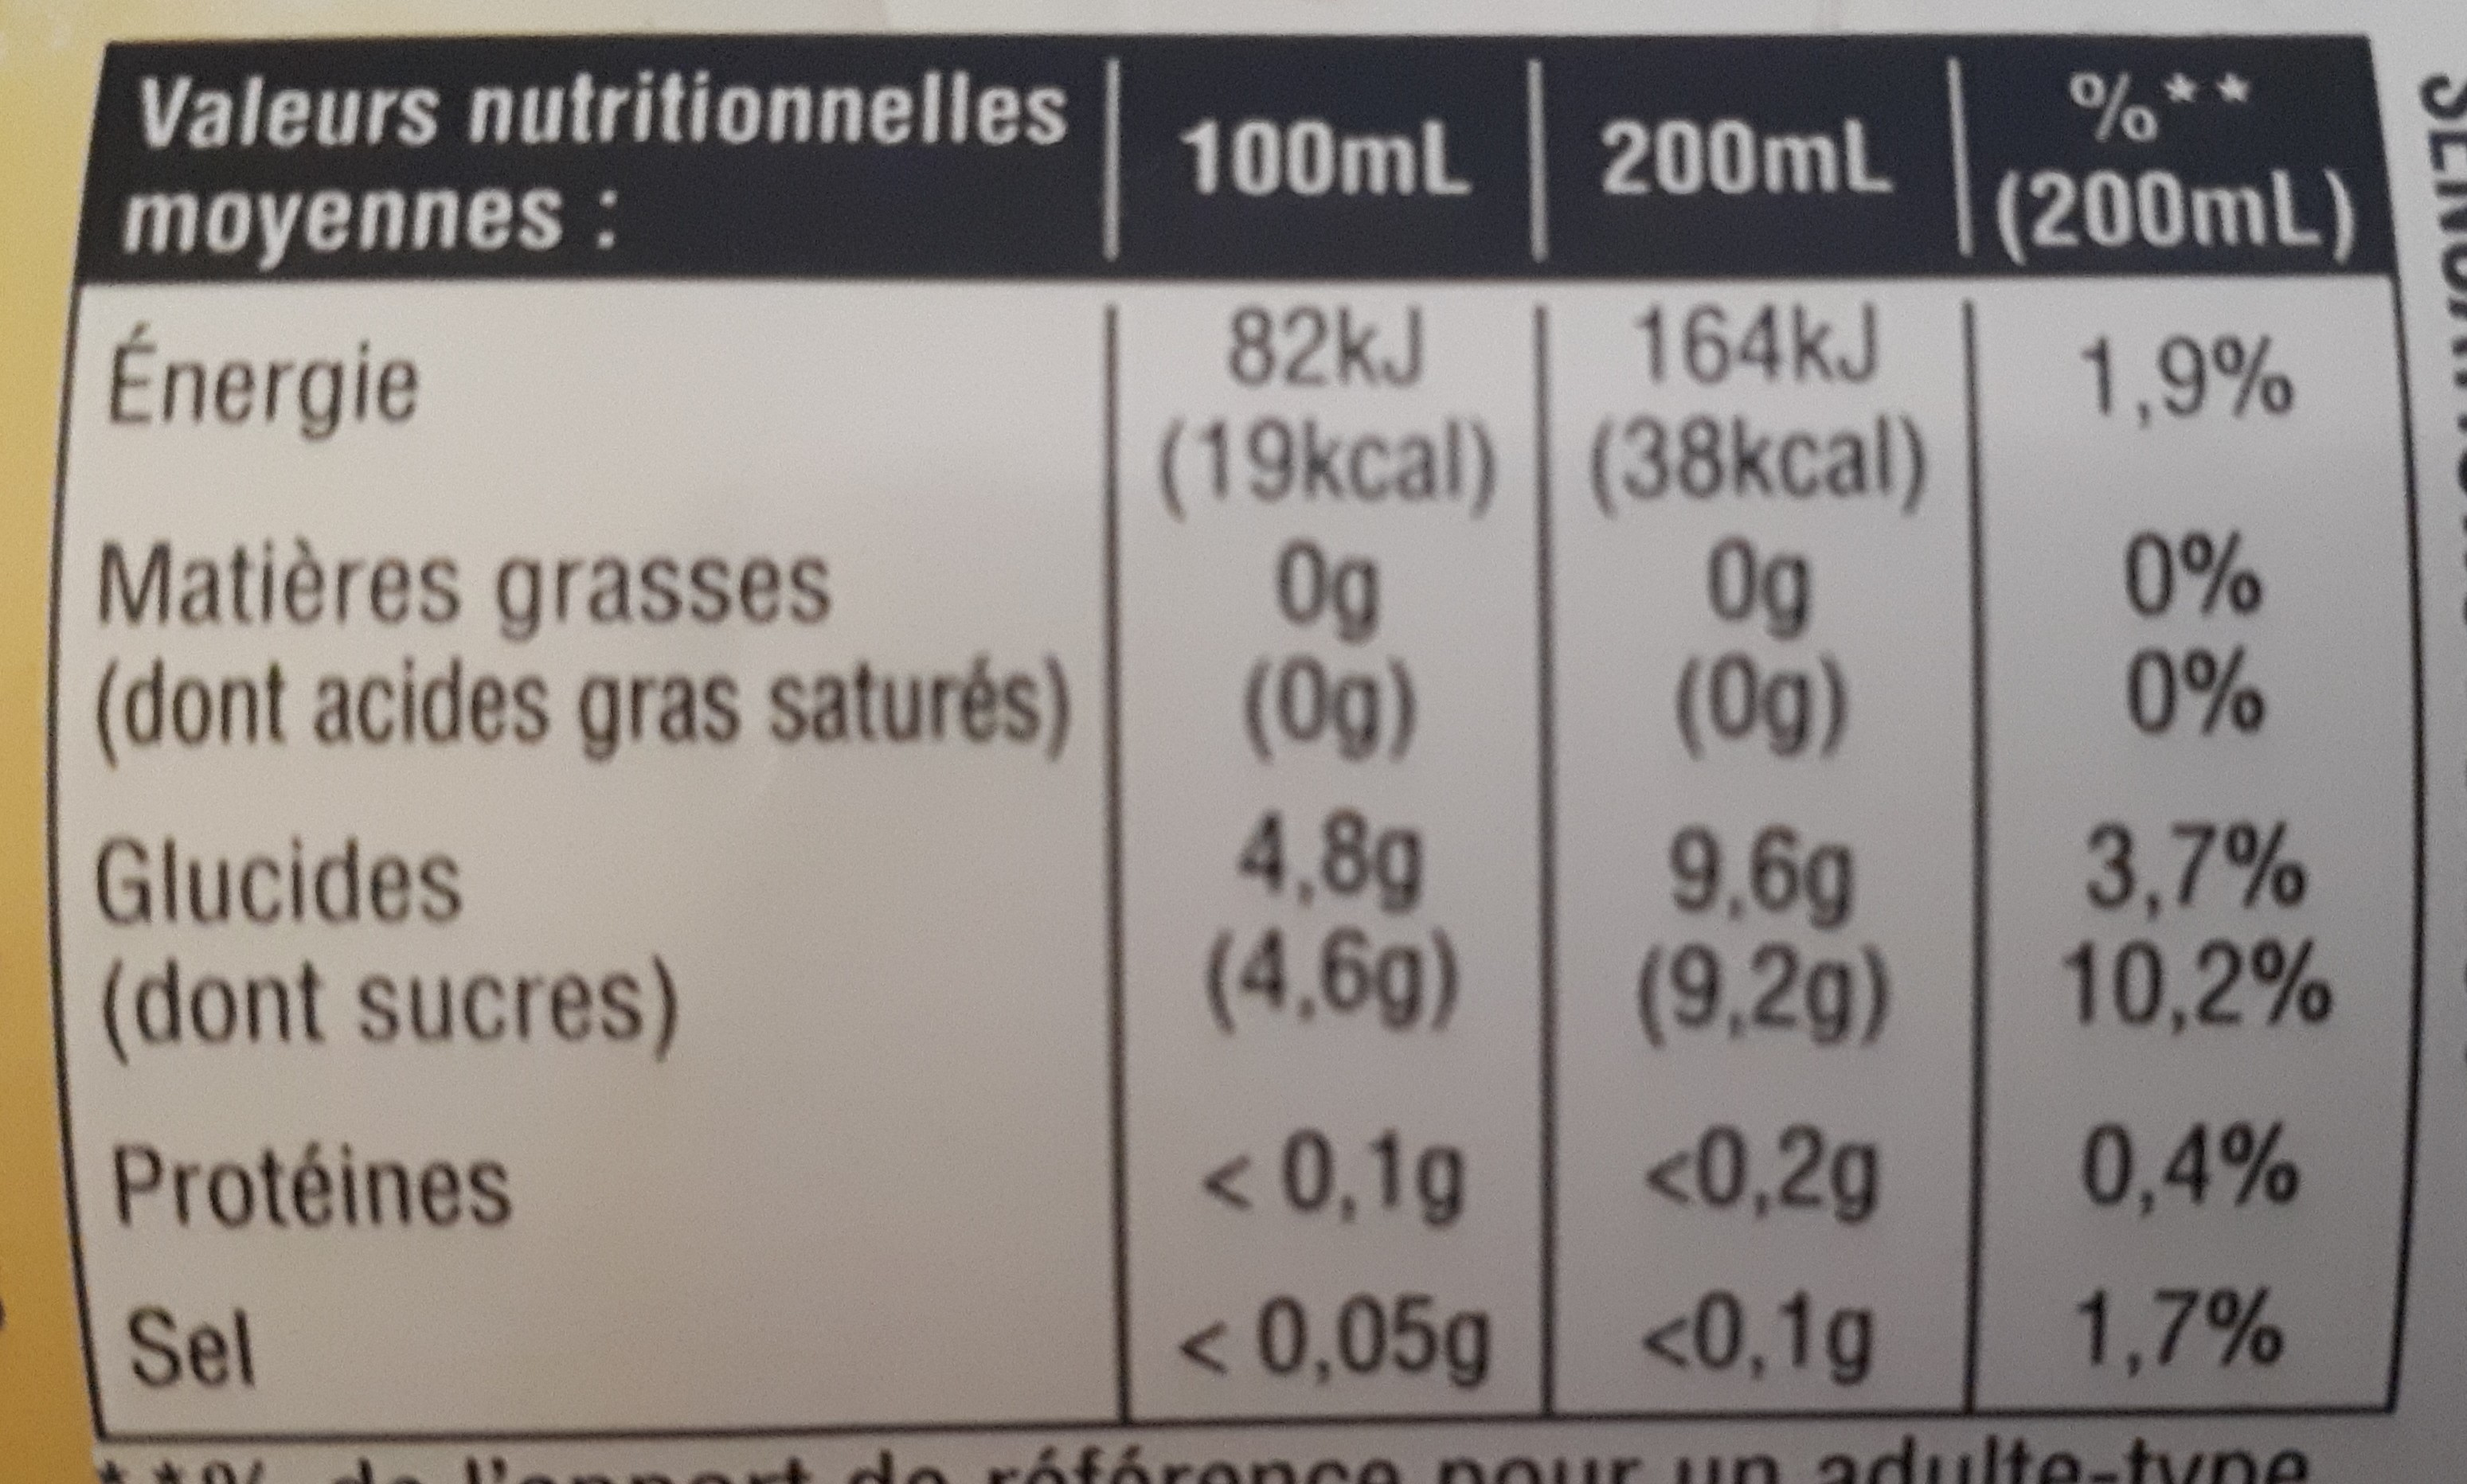column: (90, 51, 1080, 1391), (1995, 56, 2360, 1394), (1588, 56, 1937, 1405), (1158, 55, 1501, 1399)
table: (49, 26, 2419, 1443)
